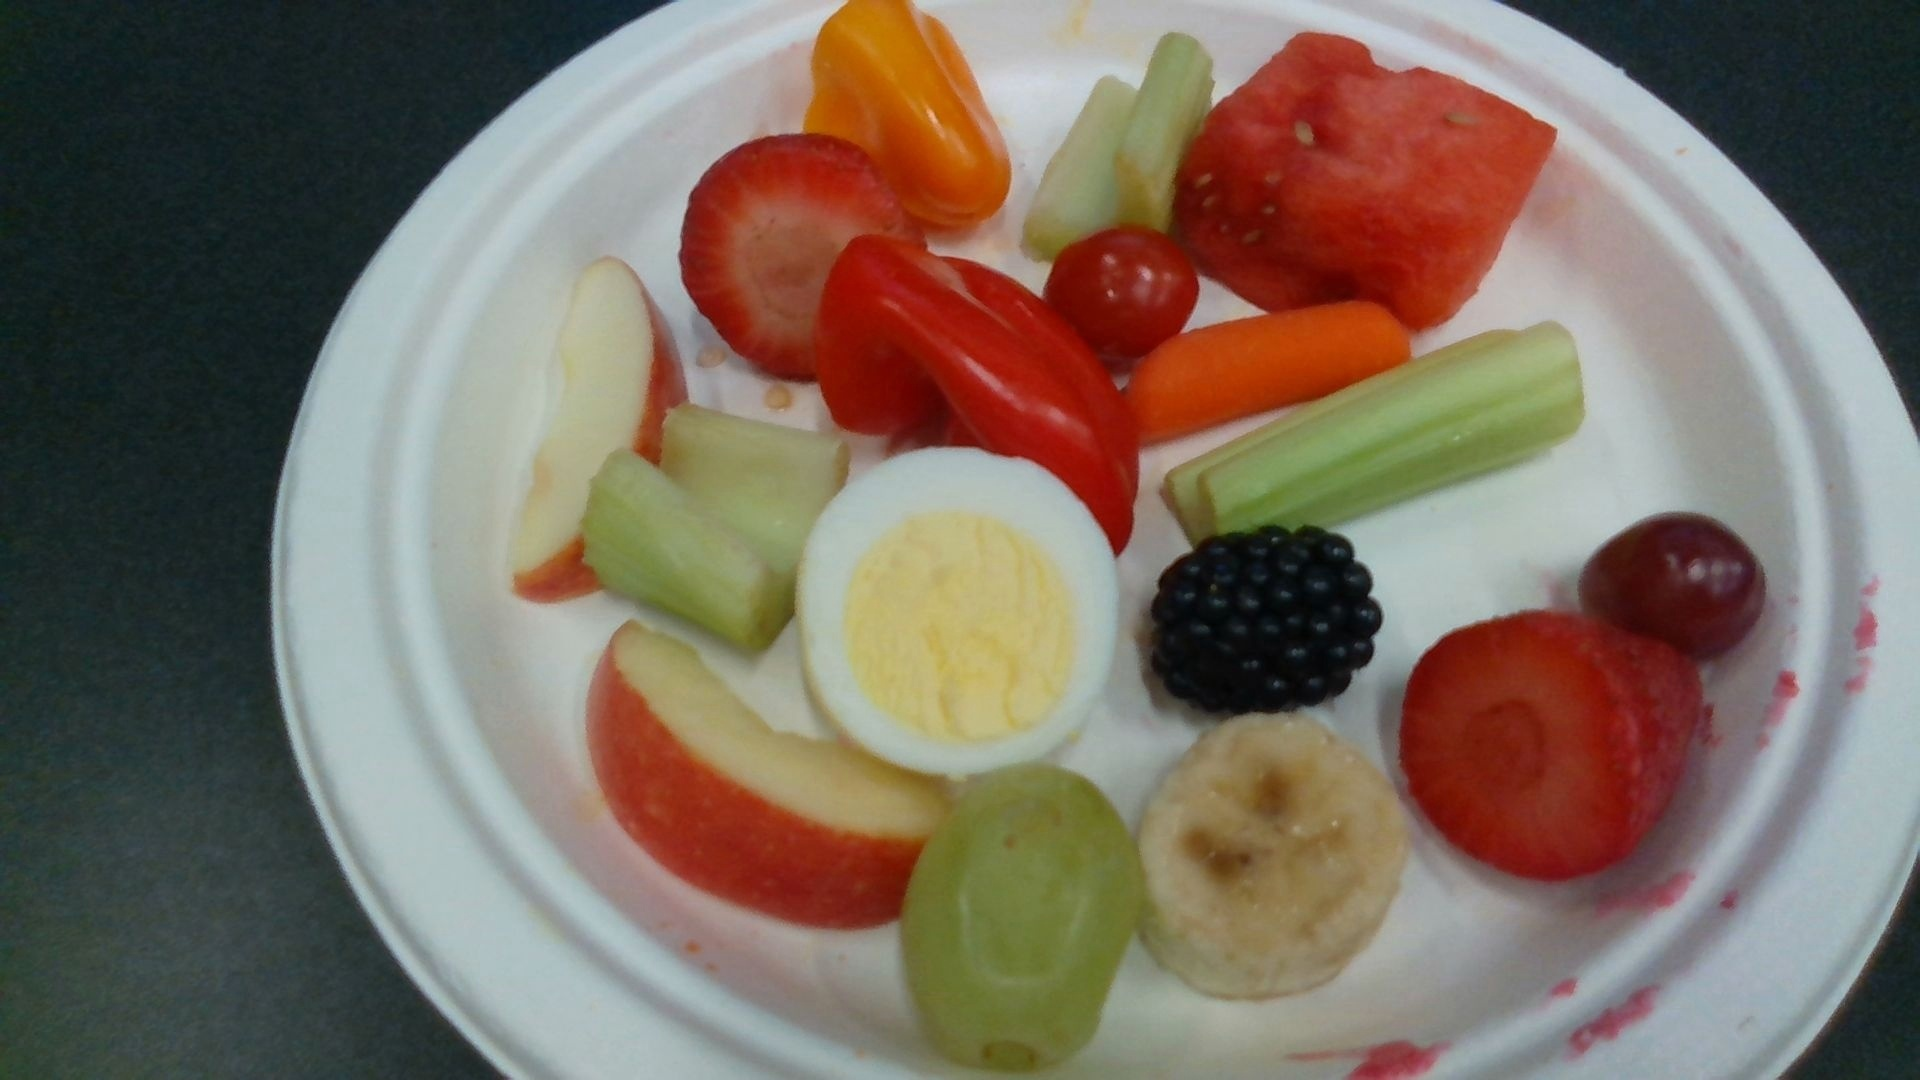apple: (587, 628, 947, 926), (516, 261, 673, 608)
banana: (1135, 713, 1402, 1005)
bell_pepper: (818, 236, 1139, 555), (804, 1, 1010, 225)
blackberry: (1149, 526, 1379, 711)
carrot: (1129, 303, 1408, 436)
celery: (1164, 323, 1582, 541), (580, 406, 845, 650), (1029, 36, 1207, 255)
cherry_tomato: (1047, 229, 1199, 356)
egg: (796, 444, 1114, 781)
grape_green: (905, 767, 1135, 1060)
grape_purple: (1580, 510, 1764, 655)
melon: (1174, 36, 1553, 328)
strawberry: (1400, 613, 1700, 878), (682, 136, 922, 376)
